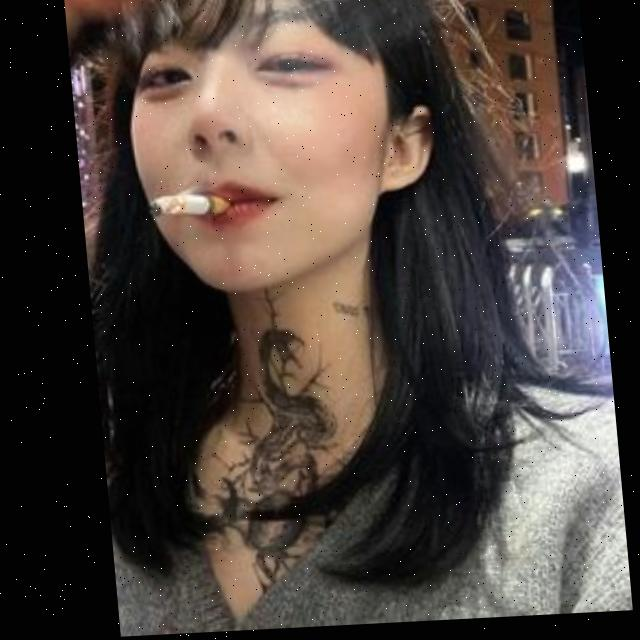cigarette: (143, 188, 231, 222)
